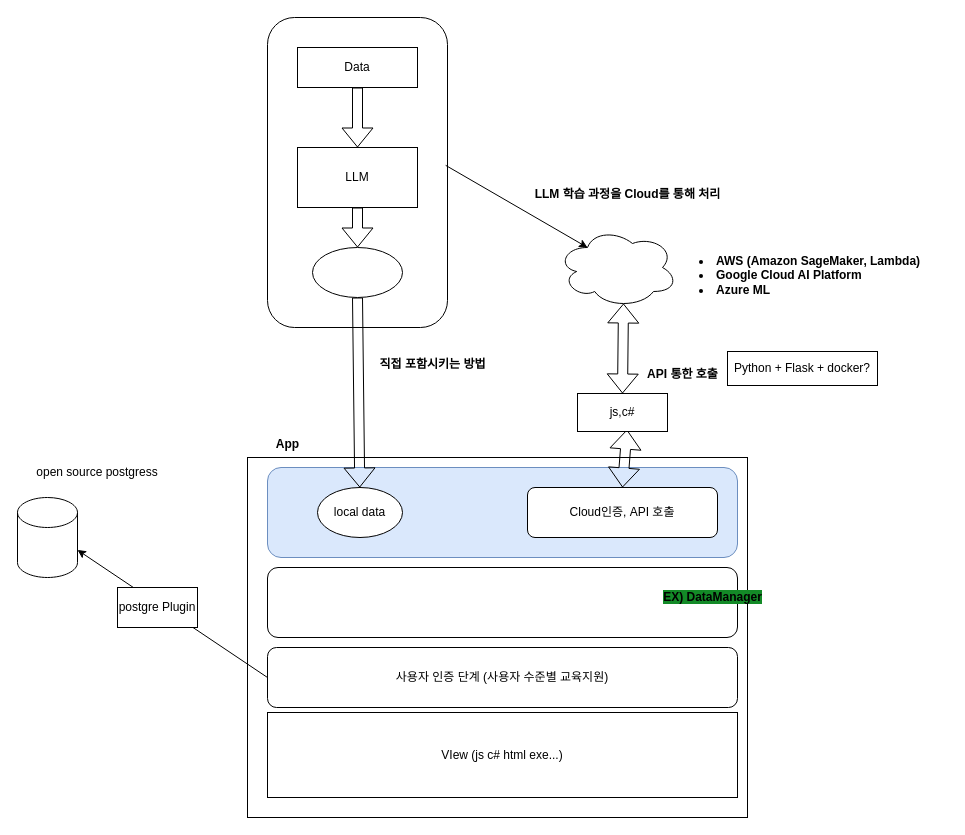
This 965x835 diagram has some shape labels left out. The box of each missing label's shape, as (x1, y1, x2, y2) in pixels:
cloud: (556, 226, 678, 308)
Data Asset: (312, 246, 402, 298)
Data를 사용가능한 형태로 변환 및 파싱 작업 API 형태로 데이터 요청가능하도록: (266, 566, 738, 638)
DB: (16, 496, 78, 578)
